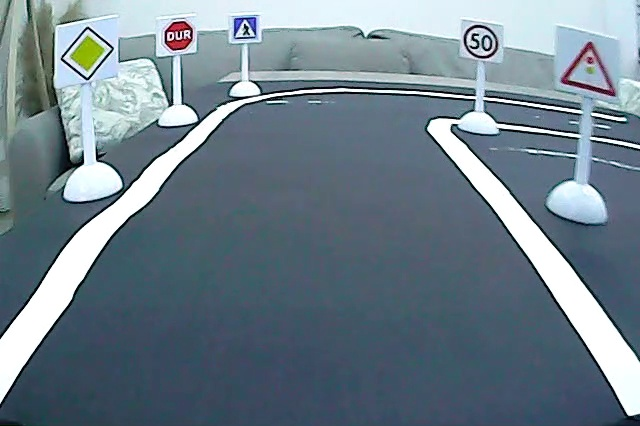pedestrian crossing: (230, 14, 260, 42)
red light: (555, 36, 622, 103)
speed limit 50: (462, 24, 501, 61)
stop sign: (160, 17, 196, 53)
